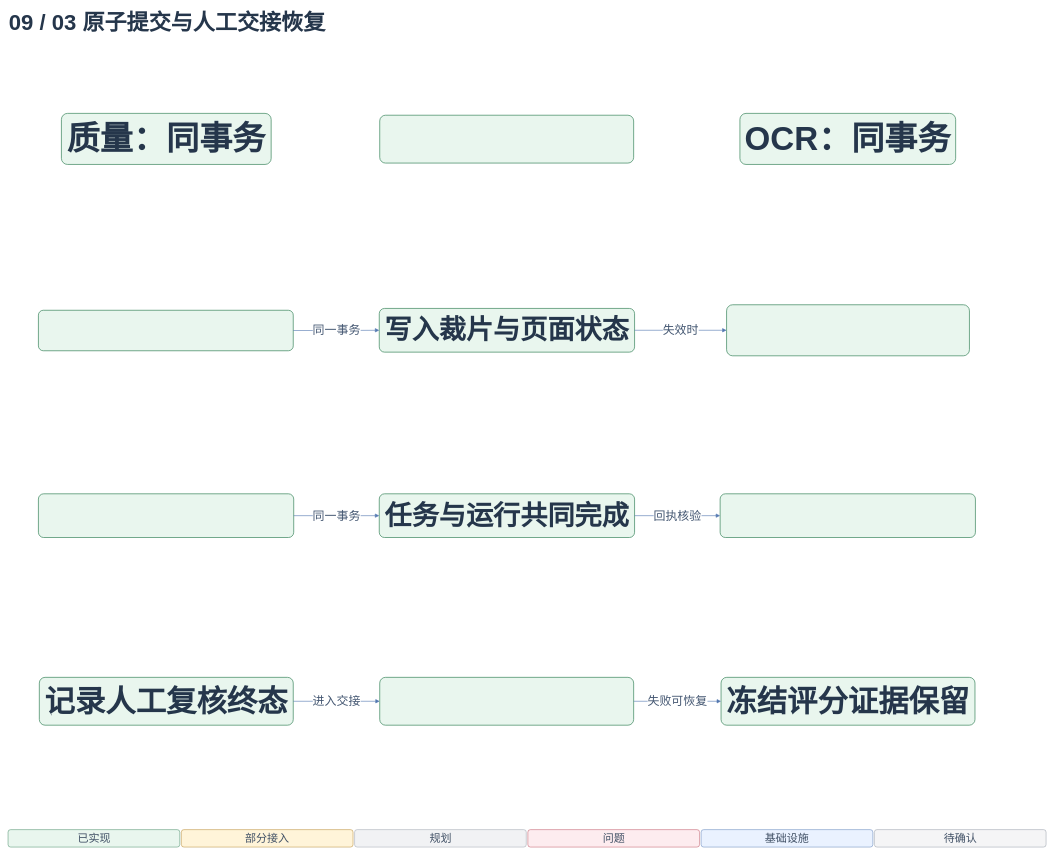
Image size: 1056x855. Some labels were removed from this diagram. The centre of each missing label's shape, as x and y in pixels:
"主观题：成绩与用量" goes at (x=166, y=515).
"幂等建立人工任务" goes at (x=506, y=701).
"模板匹配：同事务" goes at (x=506, y=139).
"相同完成结果可重放" goes at (x=848, y=515).
"租约失效则回滚" goes at (x=848, y=330).
"配准：运行与任务加锁" goes at (x=165, y=330).
